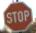Stop sign: (0, 0, 35, 32)
